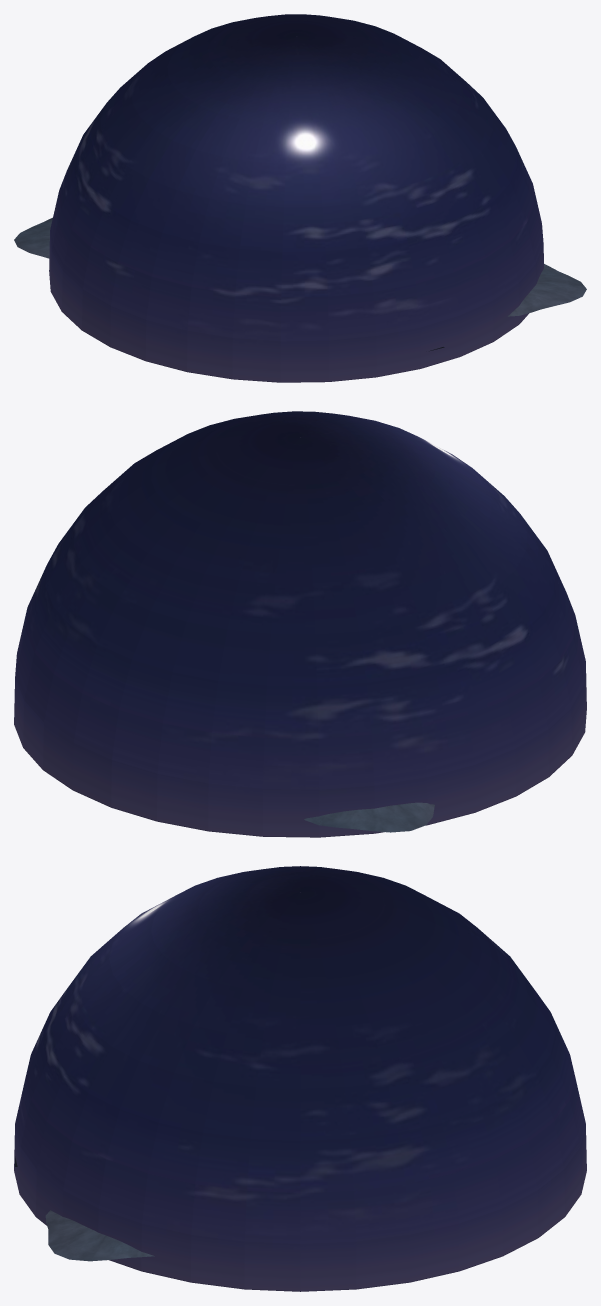
File: lugar-santodomingo-ciudad.glb
3 views of the same model, one above another, from view 1: azimuth 30°, elevation 25°; view 2: azimuth 150°, elevation 25°; view 3: azimuth 270°, elevation 25° (orthographic). The views are drawn at different scales.
Visible parts, largest first — view 1: planoC, vertT; view 2: planoC, vertT; view 3: planoC, vertT.
Part boxes in pixels (x1,y1,x2,y2): planoC: (49, 14, 543, 382); vertT: (14, 217, 586, 316); planoC: (14, 411, 586, 837); vertT: (304, 802, 434, 832); planoC: (14, 866, 586, 1291); vertT: (45, 1210, 154, 1261).
Bounding box in the file's own units: 6584 × 3530 × 6584.
13 materials, 9 textured.
